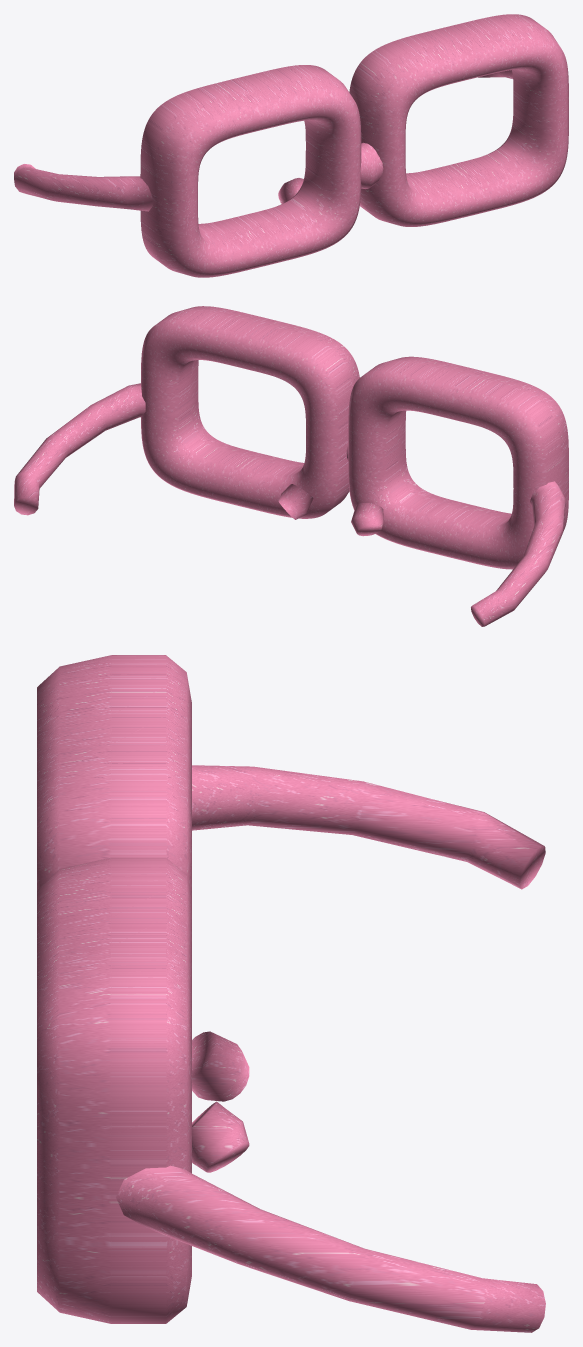
The model's file is furry_glasses_lod_b.glb.
3 renders of one model, top to bottom at view 1: azimuth 30°, elevation 25°; view 2: azimuth 150°, elevation 25°; view 3: azimuth 270°, elevation 25°, orthographic. The views are drawn at different scales.
Visible parts, largest first — view 1: FurryGlasses_EyeCenter_Pivot; view 2: FurryGlasses_EyeCenter_Pivot; view 3: FurryGlasses_EyeCenter_Pivot.
Boxes of the visible parts, left/top/right/bottom form: FurryGlasses_EyeCenter_Pivot: left=14, top=14, right=568, bottom=277; FurryGlasses_EyeCenter_Pivot: left=14, top=306, right=568, bottom=626; FurryGlasses_EyeCenter_Pivot: left=37, top=655, right=545, bottom=1332.
Bounding box in the file's own units: 1.12 × 0.37 × 0.493.
Materials: 1 (1 with a texture image).
